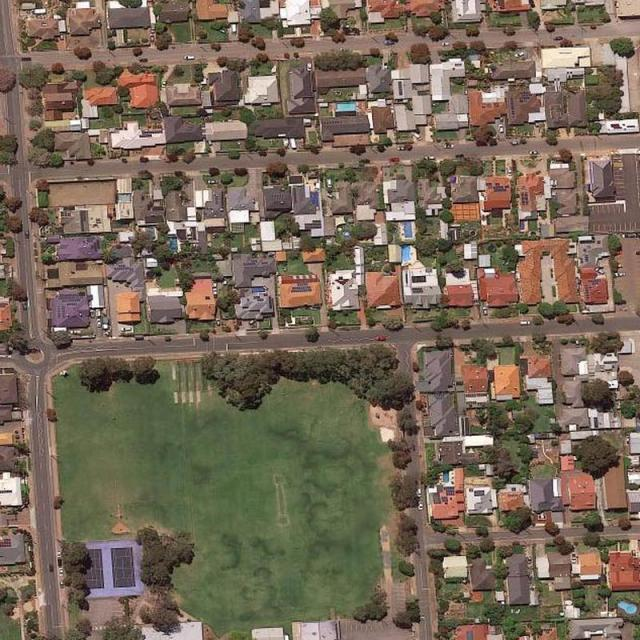vehicle: (51, 326, 67, 332), (375, 335, 388, 342), (422, 154, 434, 160), (515, 51, 525, 58), (183, 54, 194, 60), (498, 123, 504, 134), (58, 568, 65, 577), (553, 35, 563, 41), (444, 143, 454, 149), (326, 178, 332, 188), (70, 329, 82, 334), (59, 579, 65, 589), (614, 272, 626, 277), (596, 267, 604, 274), (528, 150, 539, 155), (440, 41, 450, 46), (510, 140, 520, 145), (121, 327, 131, 332), (417, 488, 422, 498), (418, 500, 423, 510), (482, 306, 487, 315), (307, 62, 312, 71), (24, 230, 29, 239), (96, 318, 101, 327), (518, 321, 529, 325), (415, 134, 422, 140), (213, 280, 218, 288), (216, 318, 221, 326), (384, 41, 394, 45), (162, 79, 166, 88), (397, 146, 406, 150), (214, 288, 218, 297), (58, 550, 62, 558)
